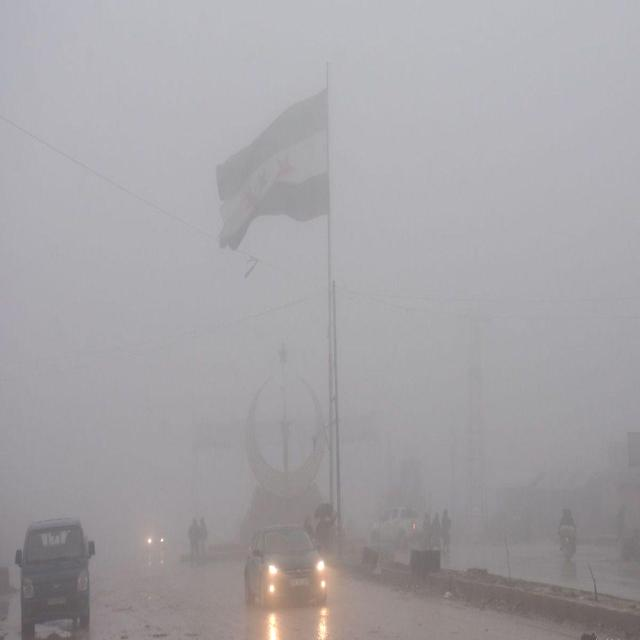Car: (7, 491, 97, 640), (247, 508, 335, 624), (359, 479, 429, 554), (136, 505, 180, 567)
Cycle: (549, 481, 584, 569)
